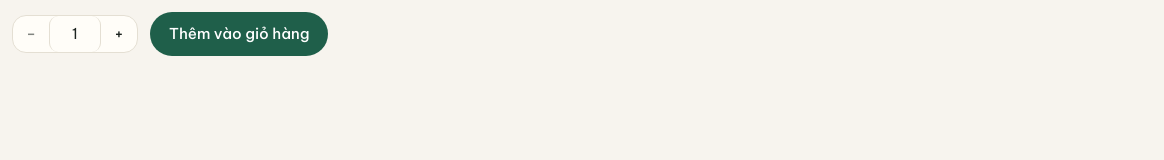
Test: AddToCart › thêm đúng số lượng đã chọn rồi báo thành công
The image size is (1164, 160).
Click the button named "Tăng số lượng" at (119, 34), box [101,16,137,52]
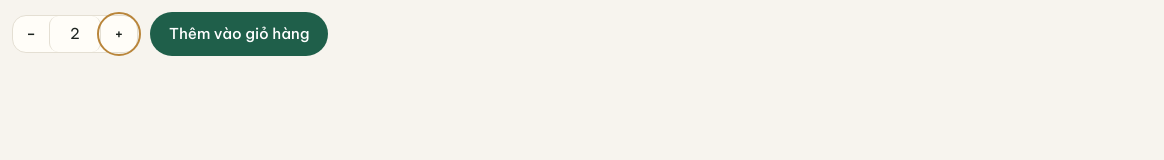
Click the button "Thêm vào giỏ hàng" at (239, 34), box [150,12,328,56]
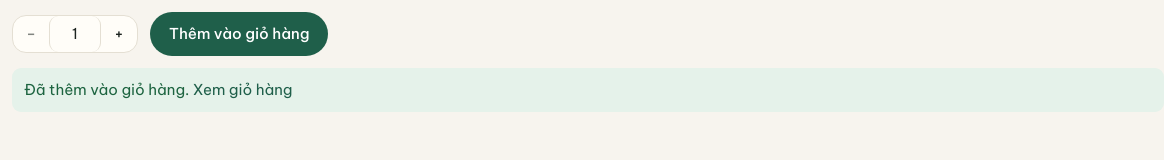
expect the message shows "Đã thêm vào giỏ hàng.": met, box [24,80,189,99]
